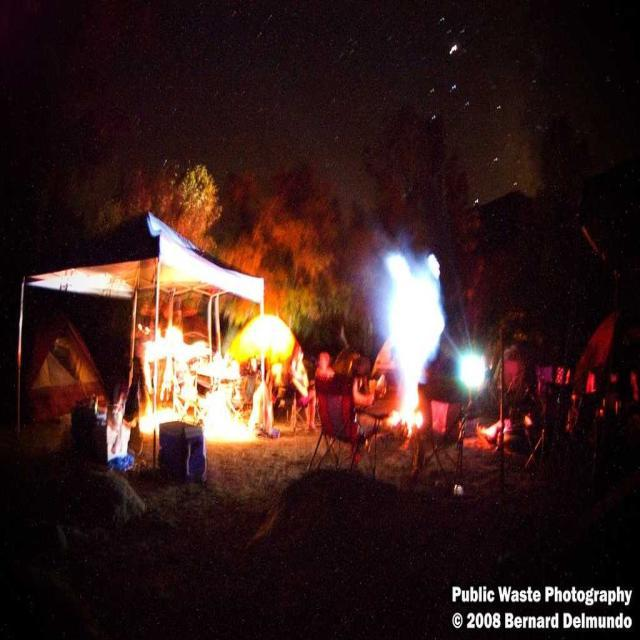Fire: (175, 351, 226, 414), (247, 321, 291, 364), (394, 372, 420, 424), (212, 418, 260, 443)
